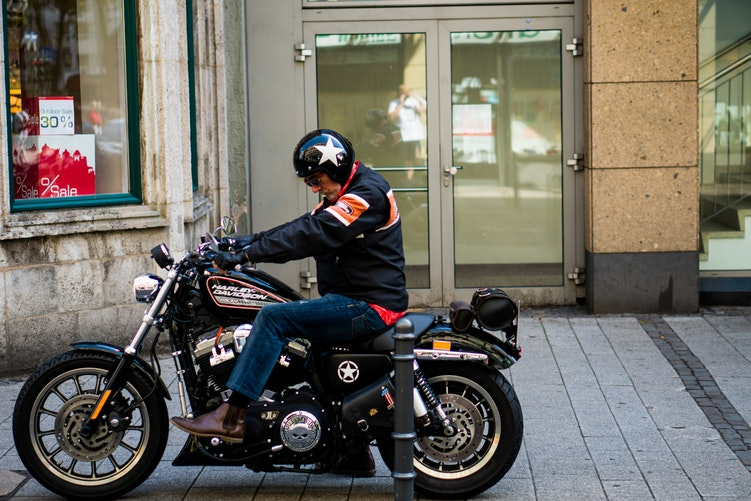helmet: (281, 130, 356, 177)
